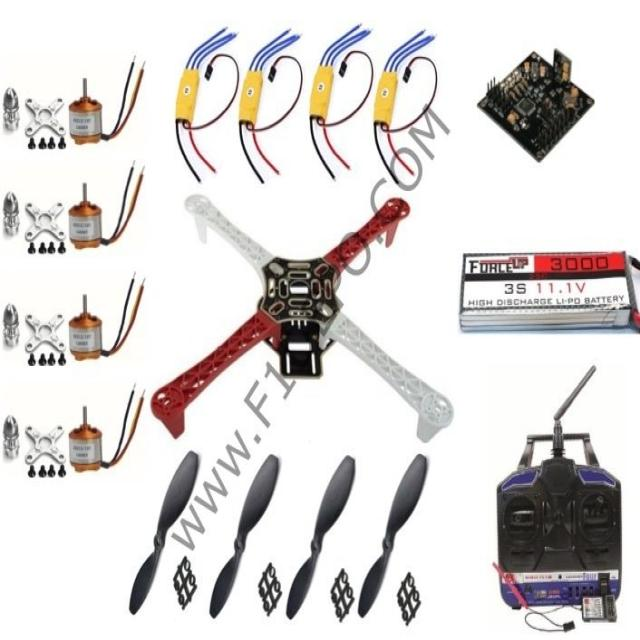drone: (148, 180, 475, 460)
